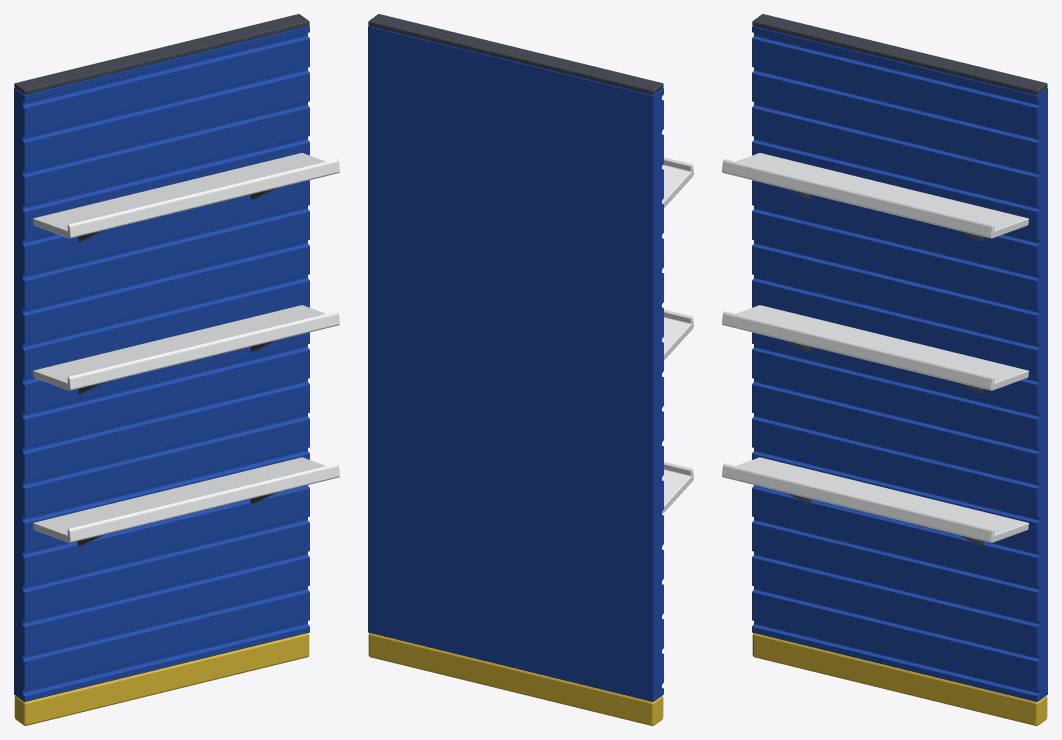
The model's file is genre-endcap-straight.glb.
3 renders of one model, left to right at view 1: azimuth 30°, elevation 25°; view 2: azimuth 150°, elevation 25°; view 3: azimuth 330°, elevation 25°, orthographic.
Visible parts, largest first — view 1: genre-endcap-straight; view 2: genre-endcap-straight; view 3: genre-endcap-straight.
Part boxes in pixels (box(x1,y1,x2,y2)): genre-endcap-straight: box(14, 14, 339, 725); genre-endcap-straight: box(368, 14, 693, 725); genre-endcap-straight: box(722, 14, 1047, 725).
Bounding box in the file's own units: 2.16 × 4.6 × 0.639.
